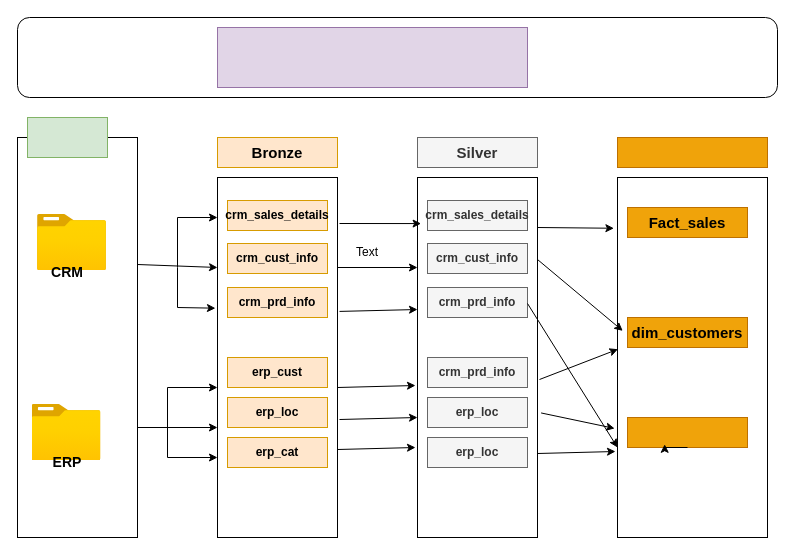
This 795x555 diagram has some shape labels left out. The centre of each missing label's shape, as x and y in pixels:
"DATA FLOW" belongs at point (372, 57).
"dim_produts" belongs at point (687, 432).
"Gold" belongs at point (692, 152).
"Sources" belongs at point (67, 137).
